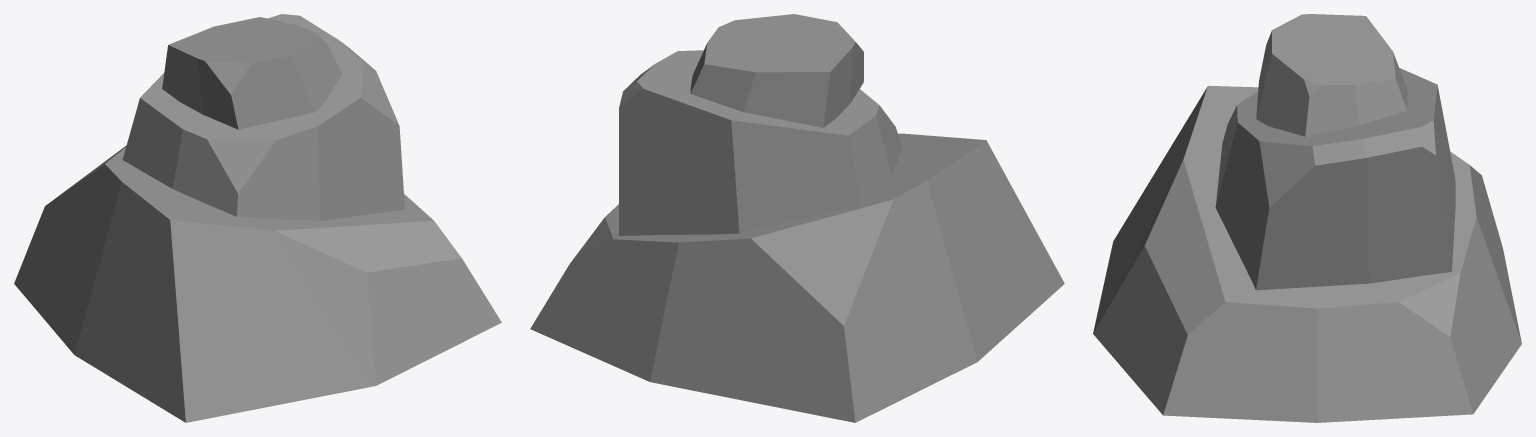
Rendered from Rock_01.fbx.
The picture shows the model from 3 angles, left to right: view 1: azimuth 30°, elevation 25°; view 2: azimuth 150°, elevation 25°; view 3: azimuth 270°, elevation 25°; orthographic projection. The views are drawn at different scales.
Parts seen in each view (by area): view 1: Rock_01; view 2: Rock_01; view 3: Rock_01.
Boxes of the visible parts, x1,y1,x2,y2 form: Rock_01: (14, 14, 501, 422); Rock_01: (530, 14, 1064, 422); Rock_01: (1093, 14, 1521, 422).
Size of the model in its own units: 200 by 140 by 192.
